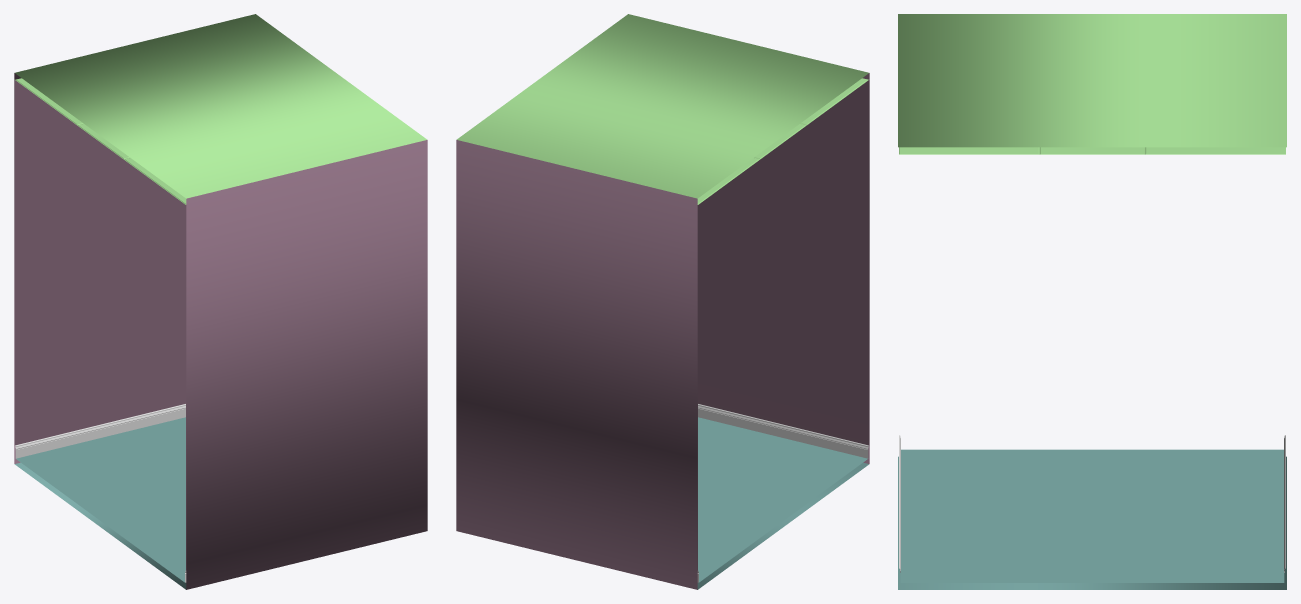
Rendered from Lvl_0_Corridor_no_doors.fbx.
3 renders of one model, left to right at view 1: azimuth 30°, elevation 25°; view 2: azimuth 150°, elevation 25°; view 3: azimuth 270°, elevation 25°, orthographic. The views are drawn at different scales.
Visible parts, largest first — view 1: Corridor_walls, Corridor_floor, Corridor_ceiling; view 2: Corridor_walls, Corridor_floor, Corridor_ceiling; view 3: Corridor_walls, Corridor_floor, Corridor_ceiling.
Boxes of the visible parts, x1,y1,x2,y2 form: Corridor_walls: (14,14,427,589); Corridor_floor: (16,417,185,582); Corridor_ceiling: (15,78,186,204); Corridor_walls: (456,14,869,589); Corridor_floor: (698,417,867,582); Corridor_ceiling: (697,78,868,204); Corridor_walls: (898,14,1286,589); Corridor_floor: (900,449,1284,582); Corridor_ceiling: (899,147,1285,154).
Bounding box in the file's own units: 2 × 3.1 × 2.47.
